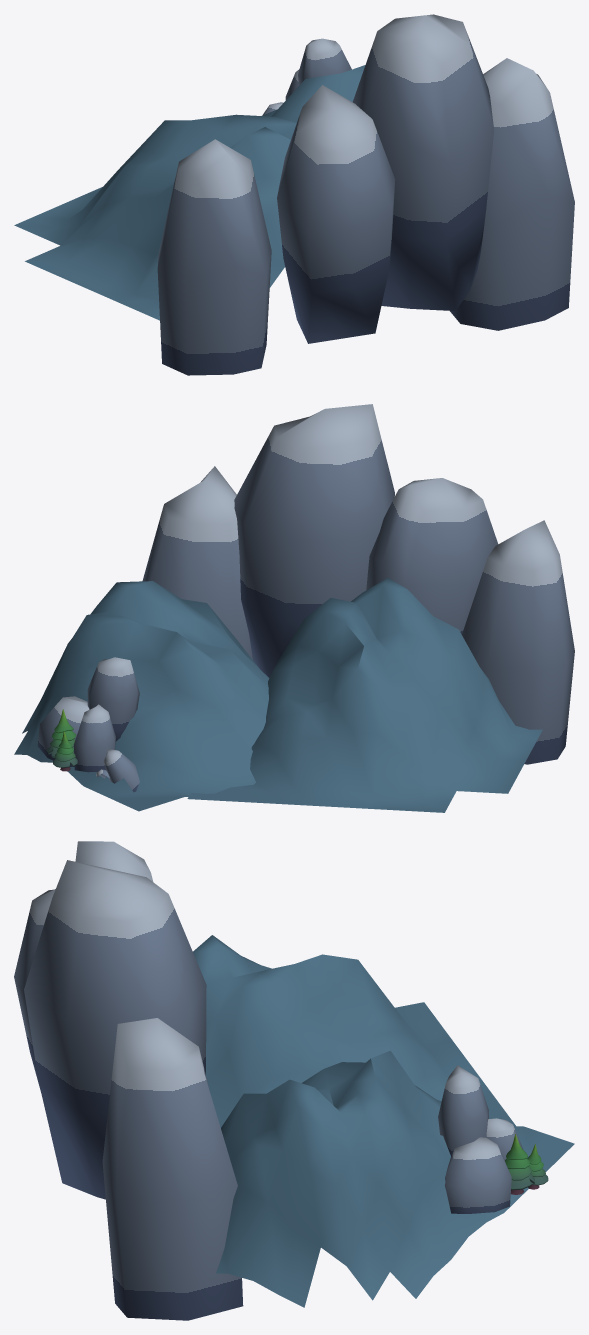
The model's file is map-w-mountain.glb.
3 renders of one model, top to bottom at view 1: azimuth 30°, elevation 25°; view 2: azimuth 150°, elevation 25°; view 3: azimuth 270°, elevation 25°, orthographic. The views are drawn at different scales.
Parts seen in each view (by area): view 1: Tree.044; view 2: Tree.044; view 3: Tree.044.
Boxes of the visible parts, left/top/right/bottom form: Tree.044: left=14, top=14, right=574, bottom=375; Tree.044: left=14, top=404, right=574, bottom=812; Tree.044: left=14, top=841, right=574, bottom=1320.
Size of the model in its own units: 141 by 92.38 by 128.
Materials: 2 (2 with a texture image).
